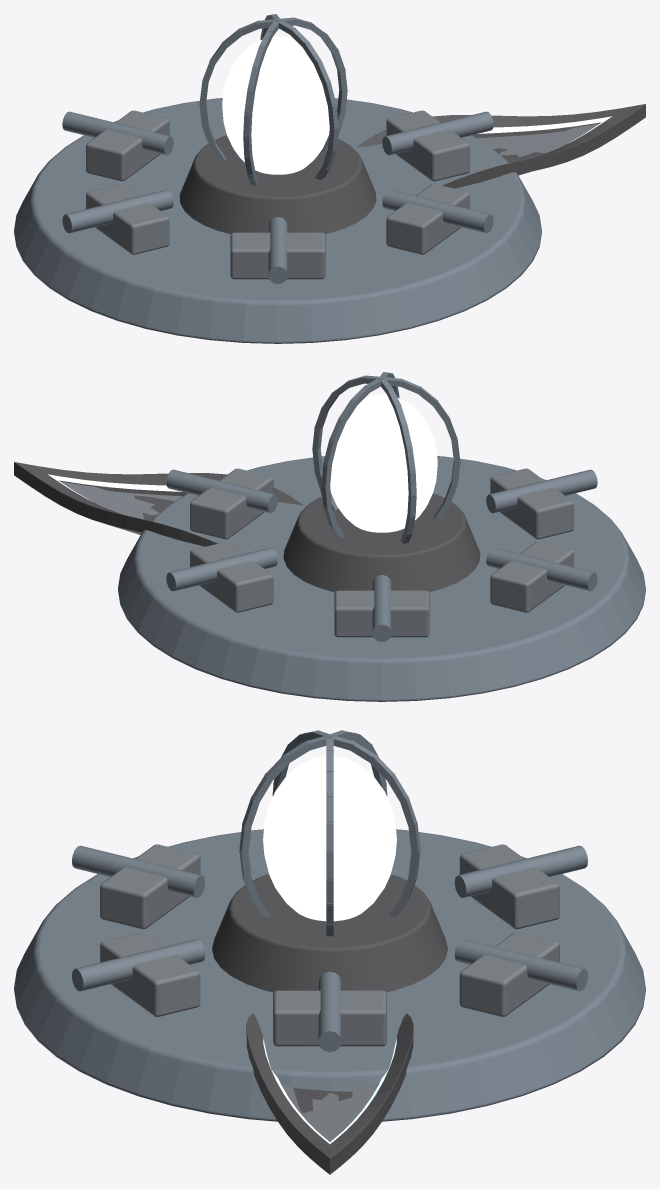
File: bloom.glb
3 views of the same model, one above another, from view 1: azimuth 30°, elevation 25°; view 2: azimuth 150°, elevation 25°; view 3: azimuth 270°, elevation 25° (orthographic). The views are drawn at different scales.
Visible parts, largest first — view 1: base, socket, core, petal, hinge4, hinge2, hinge0, hinge3, hinge5, pin0, pin2, pin5 (+6 smaller); view 2: base, socket, core, petal, hinge2, hinge4, hinge0, hinge3, hinge1, pin0, pin4, pin1 (+6 smaller); view 3: base, socket, core, petal, hinge0, hinge1, hinge5, hinge2, hinge4, pin1, pin2, pin4 (+5 smaller).
Boxes of the visible parts, x1=… form: base: x1=14, y1=98, x2=541, y2=343; socket: x1=179, y1=135, x2=376, y2=234; core: x1=222, y1=36, x2=329, y2=174; petal: x1=356, y1=104, x2=645, y2=188; hinge4: x1=230, y1=232, x2=325, y2=279; hinge2: x1=86, y1=110, x2=169, y2=181; hinge0: x1=386, y1=110, x2=469, y2=181; hinge3: x1=86, y1=184, x2=169, y2=254; hinge5: x1=386, y1=184, x2=469, y2=254; pin0: x1=382, y1=111, x2=493, y2=155; pin2: x1=62, y1=111, x2=173, y2=155; pin5: x1=382, y1=189, x2=493, y2=233; base: x1=118, y1=456, x2=645, y2=701; socket: x1=283, y1=493, x2=480, y2=592; core: x1=330, y1=394, x2=437, y2=532; petal: x1=14, y1=462, x2=303, y2=546; hinge2: x1=334, y1=590, x2=429, y2=637; hinge4: x1=490, y1=468, x2=573, y2=539; hinge0: x1=190, y1=468, x2=273, y2=539; hinge3: x1=490, y1=542, x2=573, y2=612; hinge1: x1=190, y1=542, x2=273, y2=612; pin0: x1=166, y1=469, x2=277, y2=513; pin4: x1=486, y1=469, x2=597, y2=513; pin1: x1=166, y1=547, x2=277, y2=591; base: x1=14, y1=829, x2=645, y2=1121; socket: x1=212, y1=874, x2=447, y2=992; core: x1=263, y1=756, x2=396, y2=921; petal: x1=246, y1=1013, x2=413, y2=1174; hinge0: x1=273, y1=990, x2=386, y2=1046; hinge1: x1=459, y1=932, x2=559, y2=1016; hinge5: x1=100, y1=932, x2=200, y2=1016; hinge2: x1=459, y1=844, x2=559, y2=929; hinge4: x1=100, y1=844, x2=200, y2=929; pin1: x1=454, y1=939, x2=587, y2=991; pin2: x1=454, y1=845, x2=587, y2=897; pin4: x1=72, y1=845, x2=205, y2=897.
Bounding box in the file's own units: 2.46 × 0.8417 × 1.89.
